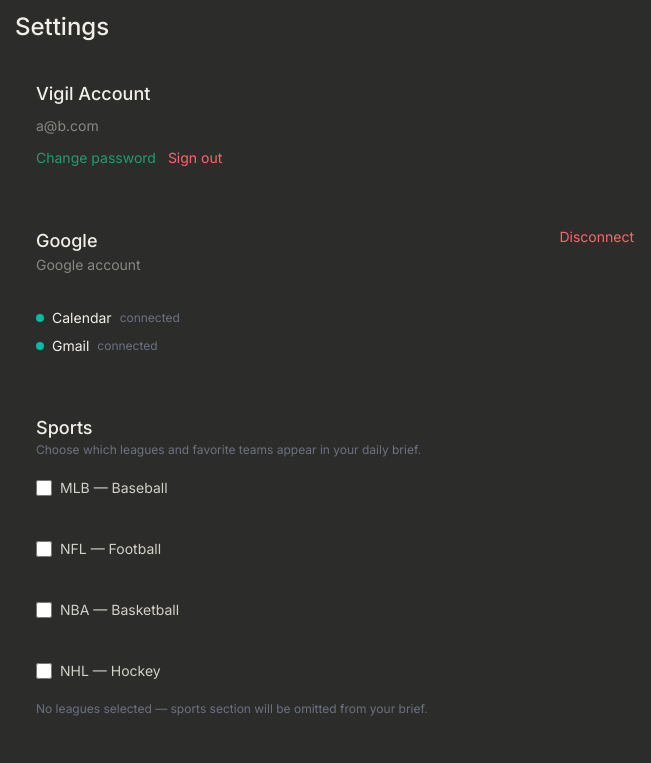
Test: SettingsPage › sports source picker (SPORTS-01) › SPORTS-01b-pwa-upstream-bucket-with-countdown: 502 + retryAfter renders upstream copy + live countdown + disabled Retry
Click the checkbox with test id "sports-checkbox-mlb".
click(44, 488)  # box 36,480 -> 52,496
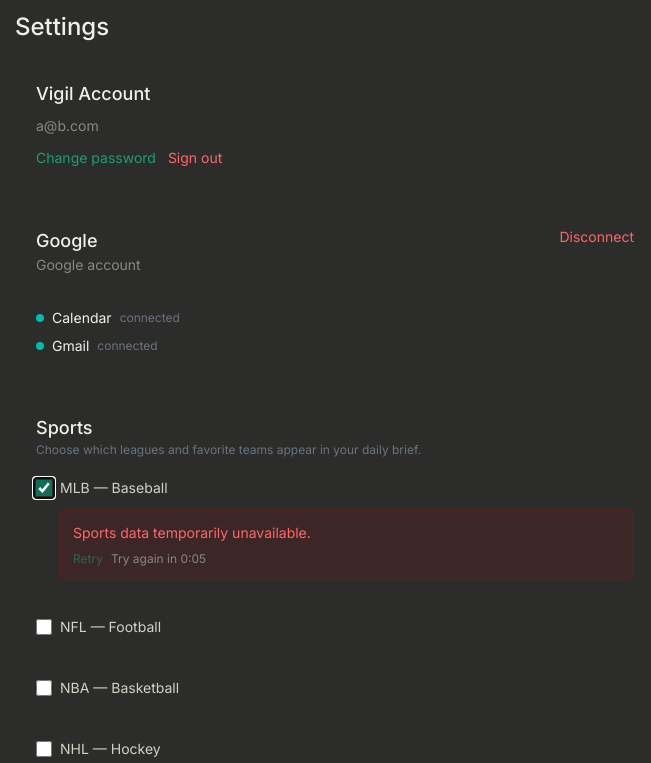
Expected: the text "Sports data temporarily unavailable." is shown, 73,524 -> 311,541
Expected: the text with test id "sports-countdown-mlb" reads "Try again in 0:05", 111,551 -> 206,567
Expected: the button with test id "sports-retry-mlb" is disabled, 73,551 -> 103,567
